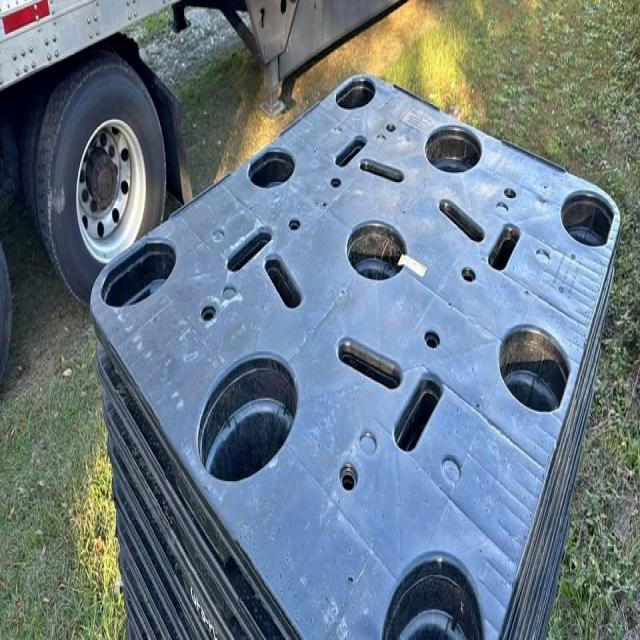non-igps: (87, 68, 624, 640)
